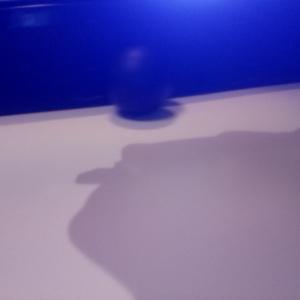dead_ball: (109, 50, 168, 116)
